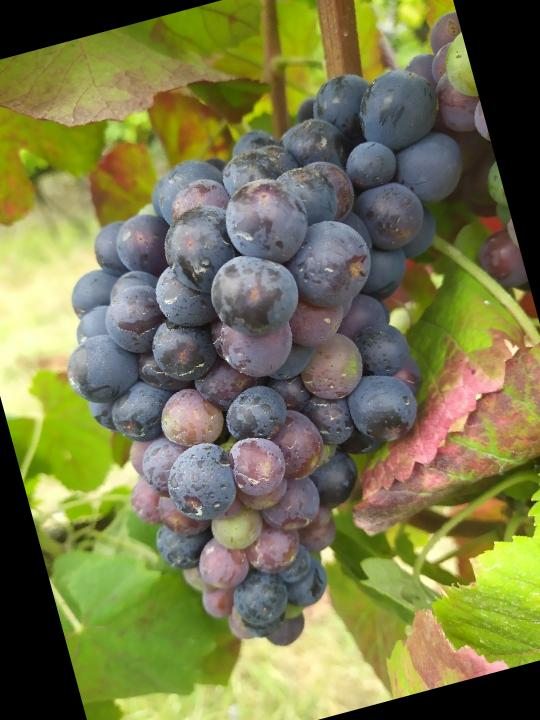grape: (6, 42, 540, 687)
